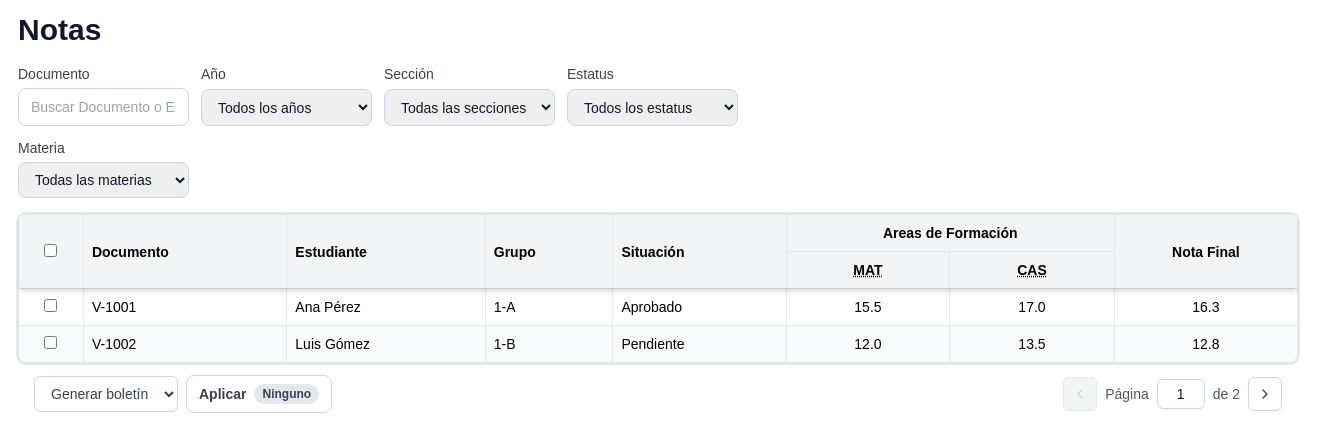
Test case: Grades page › only displays subjects taught in selected year filter
The image size is (1317, 430).
Select "Primer año" in the dropdown named "Todos los años" at (286,108), box 201,89 -> 372,126
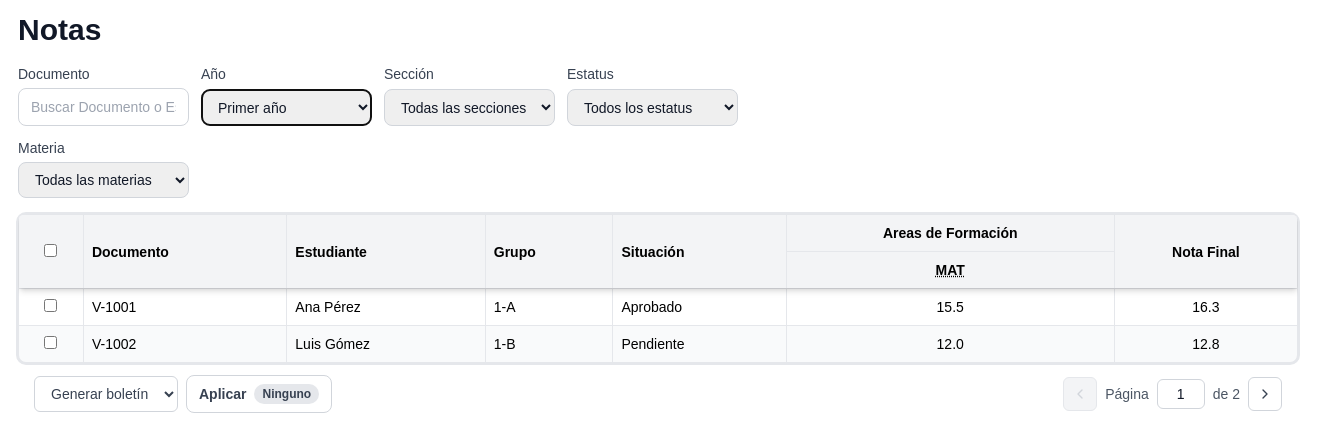
Expected: the column heading "MAT" is shown, 786,252 -> 1114,288
Result: the button "CAS" is gone
